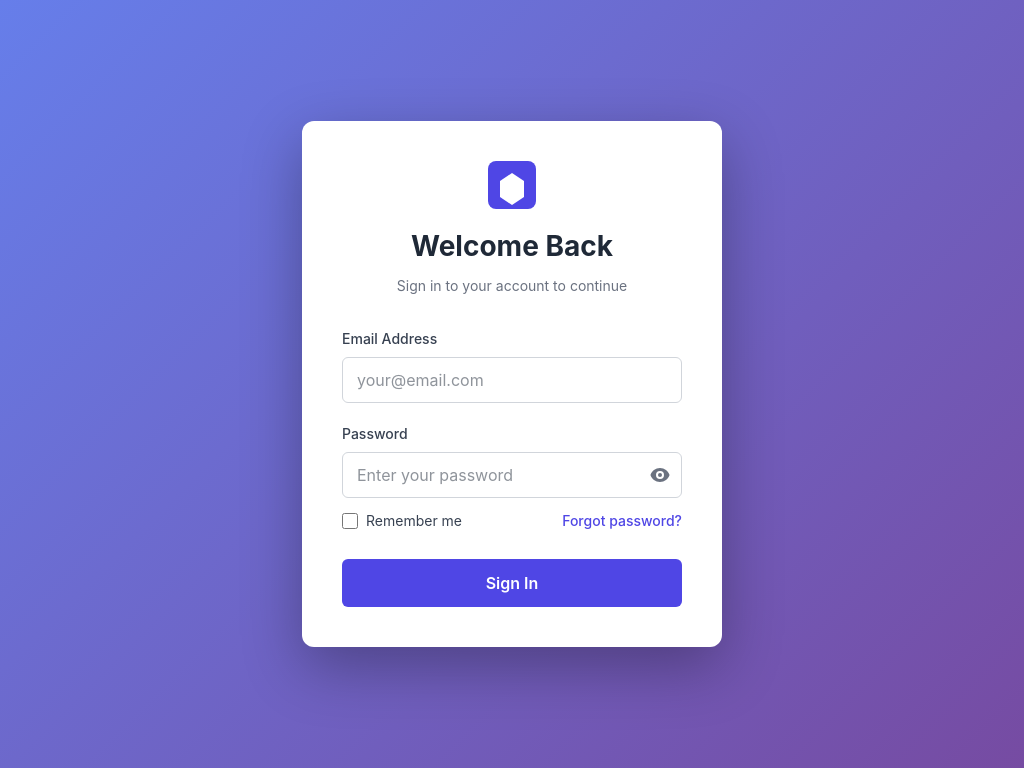
Test: LoginPage › form validation › should show error for empty email
This screenshot has width=1024, height=768.
Click the button "Sign In" at (512, 583), box [342,559,682,607]
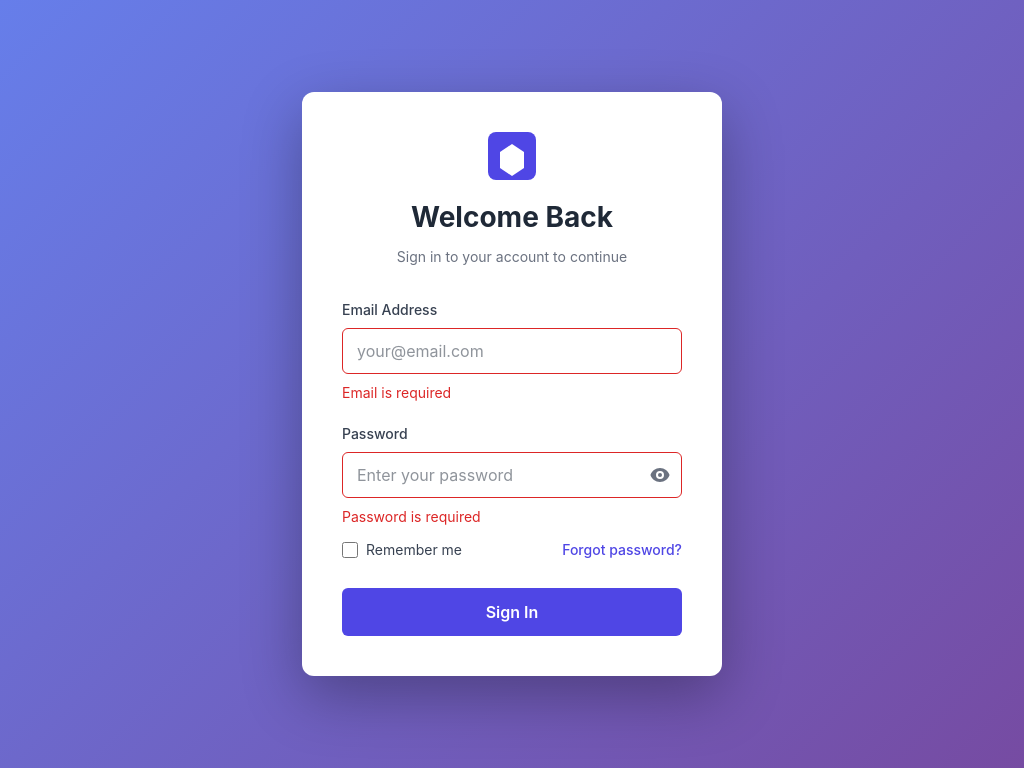
Expected: the text "Email is required" is shown, [342,384,451,401]
